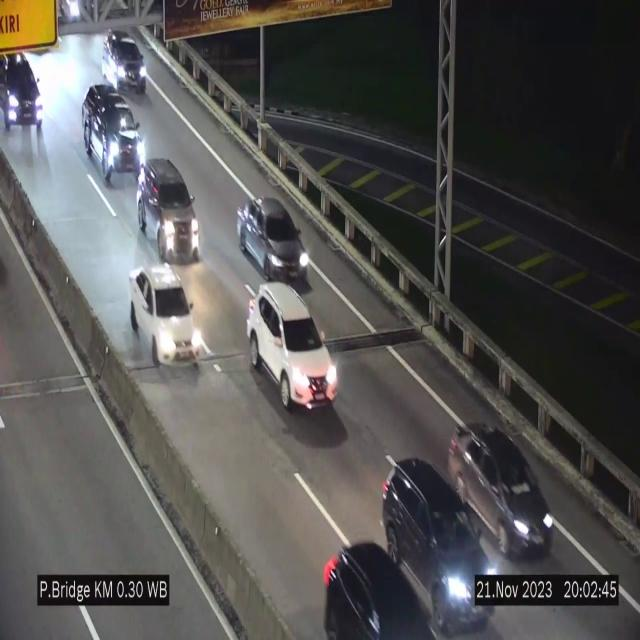Car: (379, 453, 501, 631), (445, 409, 554, 567), (314, 534, 438, 640), (247, 283, 339, 409), (126, 256, 204, 375), (138, 156, 199, 262), (237, 196, 310, 284), (78, 83, 144, 174), (0, 43, 49, 129), (104, 28, 153, 94)
